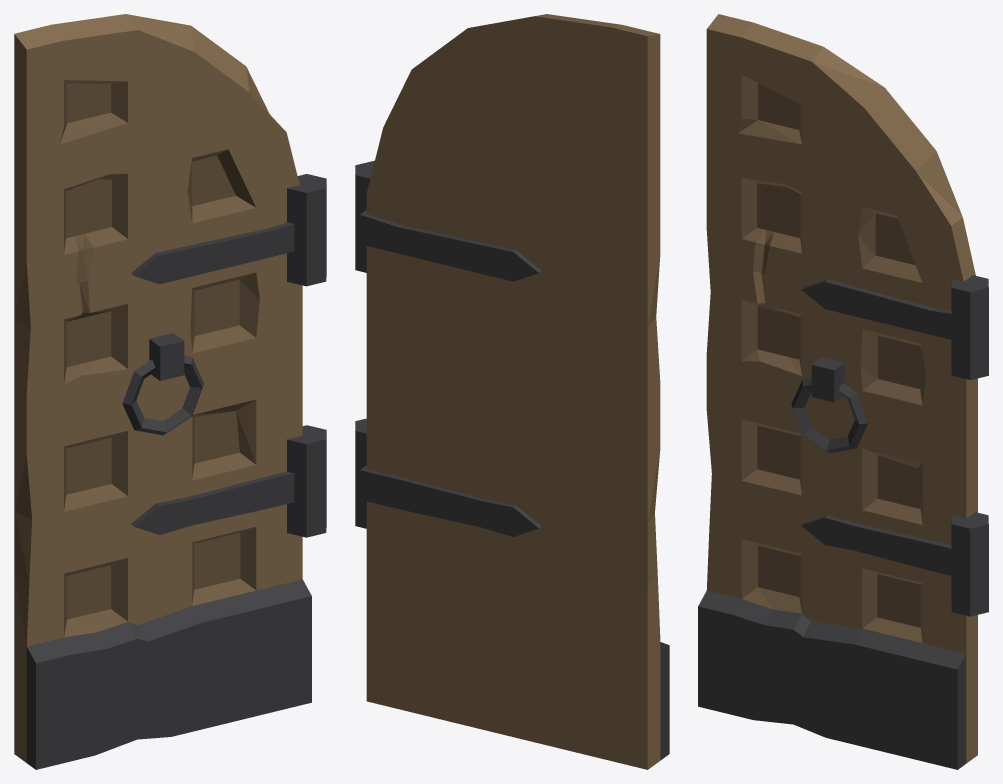
The model's file is SM_Bld_Castle_Door_R.gltf.
3 renders of one model, left to right at view 1: azimuth 30°, elevation 25°; view 2: azimuth 150°, elevation 25°; view 3: azimuth 330°, elevation 25°, orthographic. The views are drawn at different scales.
Visible parts, largest first — view 1: SM_Bld_Castle_Door_R; view 2: SM_Bld_Castle_Door_R; view 3: SM_Bld_Castle_Door_R.
Boxes of the visible parts, left/top/right/bottom form: SM_Bld_Castle_Door_R: left=14, top=14, right=326, bottom=769; SM_Bld_Castle_Door_R: left=355, top=14, right=669, bottom=769; SM_Bld_Castle_Door_R: left=698, top=14, right=988, bottom=769.
Bounding box in the file's own units: 1.12 × 2.58 × 0.1699.
1 material, 1 textured.
